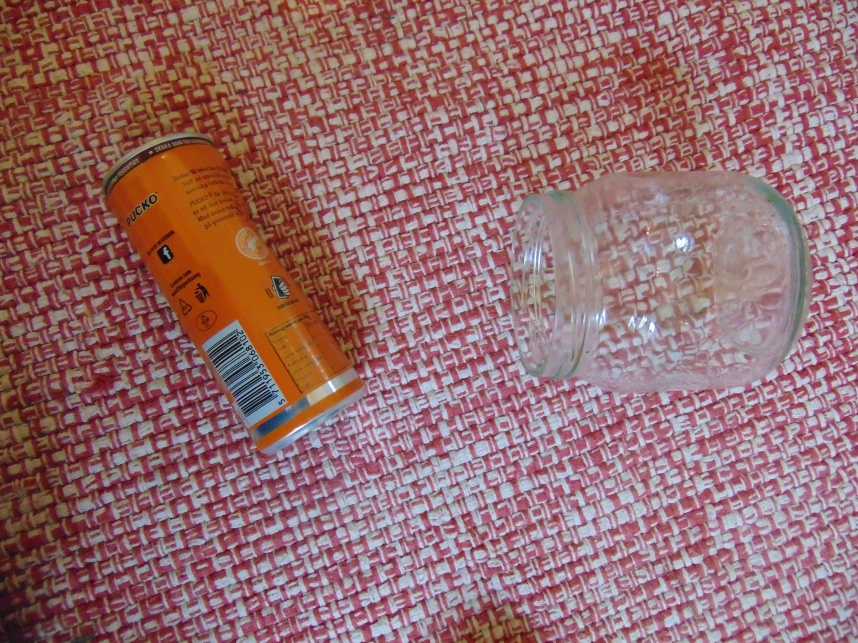glass_bottle: (510, 167, 808, 395)
metal_can: (100, 129, 364, 457)
